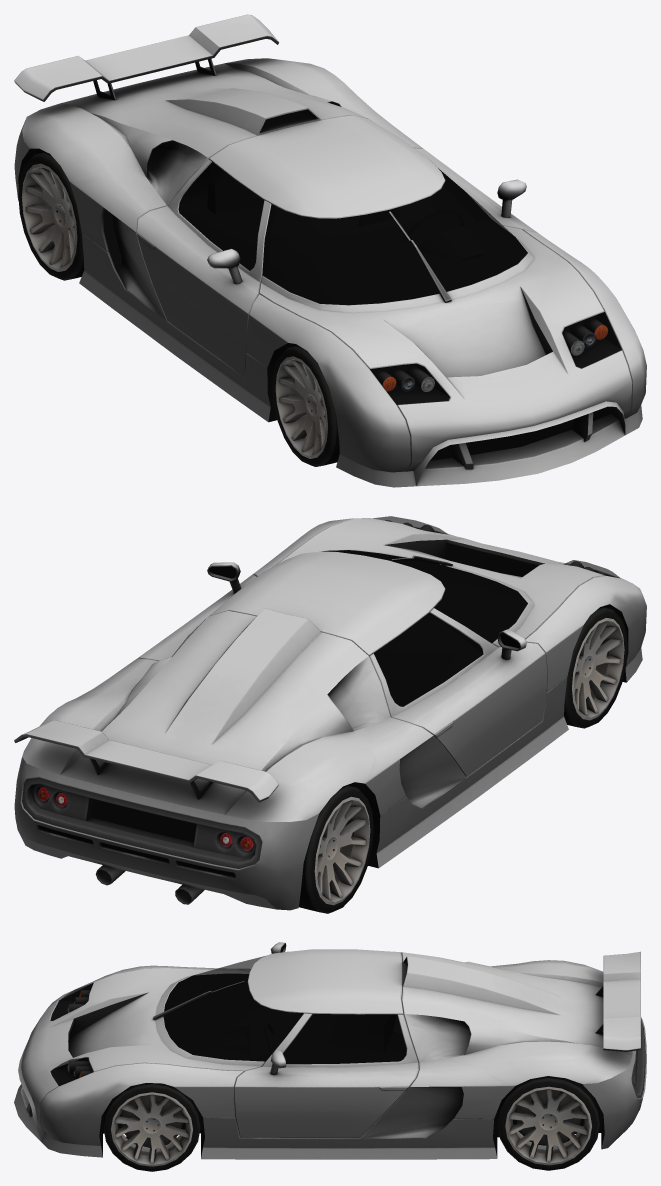
Rendered from sport.glb.
3 renders of one model, top to bottom at view 1: azimuth 30°, elevation 25°; view 2: azimuth 150°, elevation 25°; view 3: azimuth 270°, elevation 25°, orthographic. The views are drawn at different scales.
Visible parts, largest first — view 1: Body, Glass, Wheel4, Wheel2, Optics; view 2: Body, Glass, Wheel4, Wheel2; view 3: Body, Glass, Wheel3, Wheel1.
Part boxes in pixels (bbox=[...]): Body: bbox=[14, 14, 646, 487]; Glass: bbox=[179, 162, 621, 404]; Wheel4: bbox=[18, 152, 84, 280]; Wheel2: bbox=[272, 345, 339, 466]; Optics: bbox=[383, 325, 607, 391]; Body: bbox=[14, 518, 646, 910]; Glass: bbox=[322, 516, 619, 706]; Wheel4: bbox=[299, 785, 373, 913]; Wheel2: bbox=[564, 606, 627, 728]; Body: bbox=[14, 942, 646, 1159]; Glass: bbox=[50, 956, 406, 1085]; Wheel3: bbox=[497, 1076, 599, 1170]; Wheel1: bbox=[103, 1083, 200, 1171].
Size of the model in its own units: 1.77 by 1.04 by 3.92.
4 materials, 3 textured.
